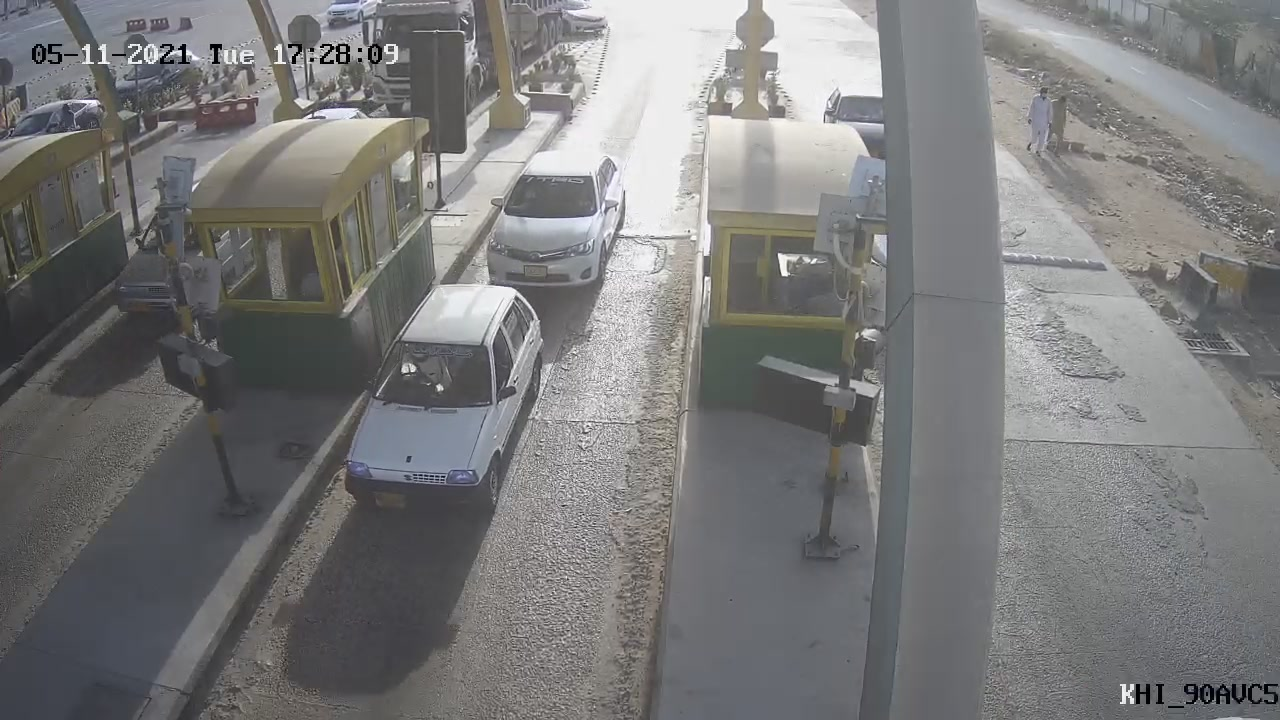F1: (327, 265, 568, 546), (465, 128, 642, 315)
